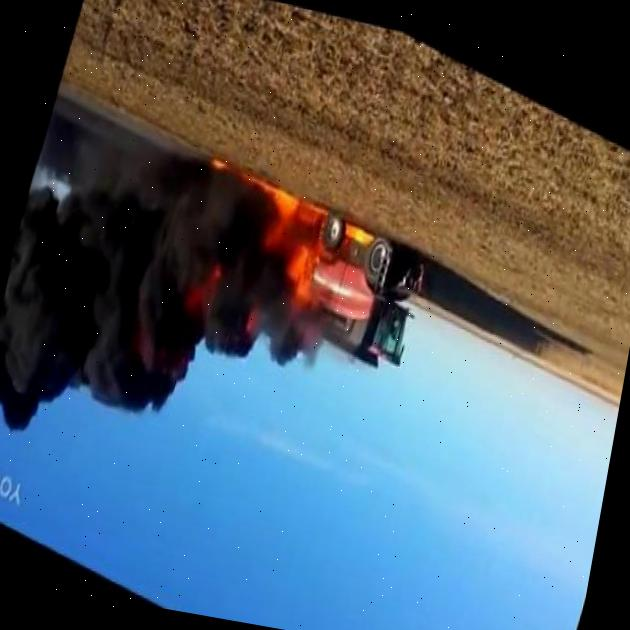fire: (257, 185, 299, 251), (289, 197, 324, 247), (283, 234, 313, 281), (289, 272, 322, 312), (340, 216, 373, 246)
smoke: (0, 133, 220, 459), (215, 241, 294, 323)
